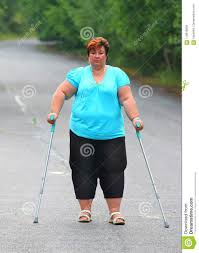crutches: (33, 37, 169, 229)
